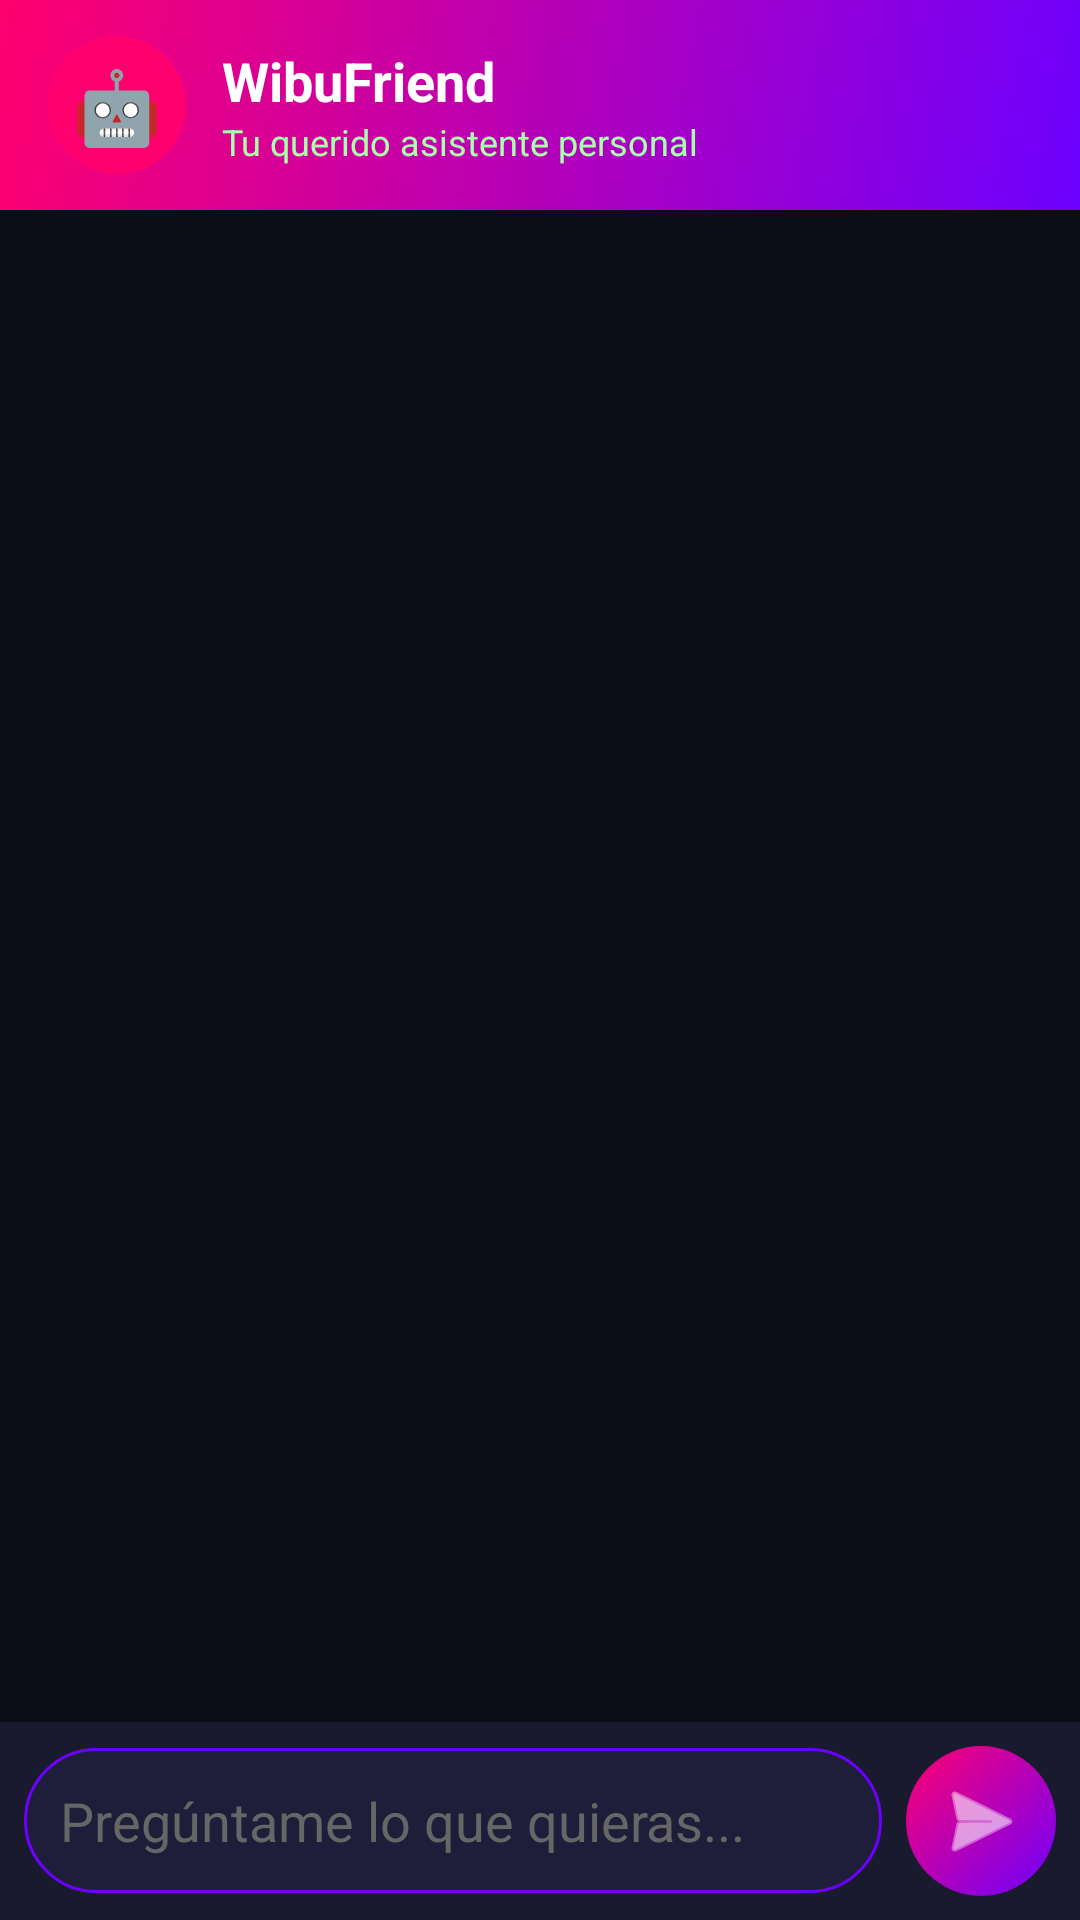

Named icons in this screenshot (1080*1920) and their centers, (x=x, y=y):
send: (x=981, y=1821)
